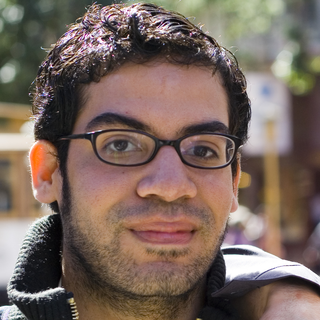eye: (101, 134, 144, 158), (181, 142, 223, 166)
